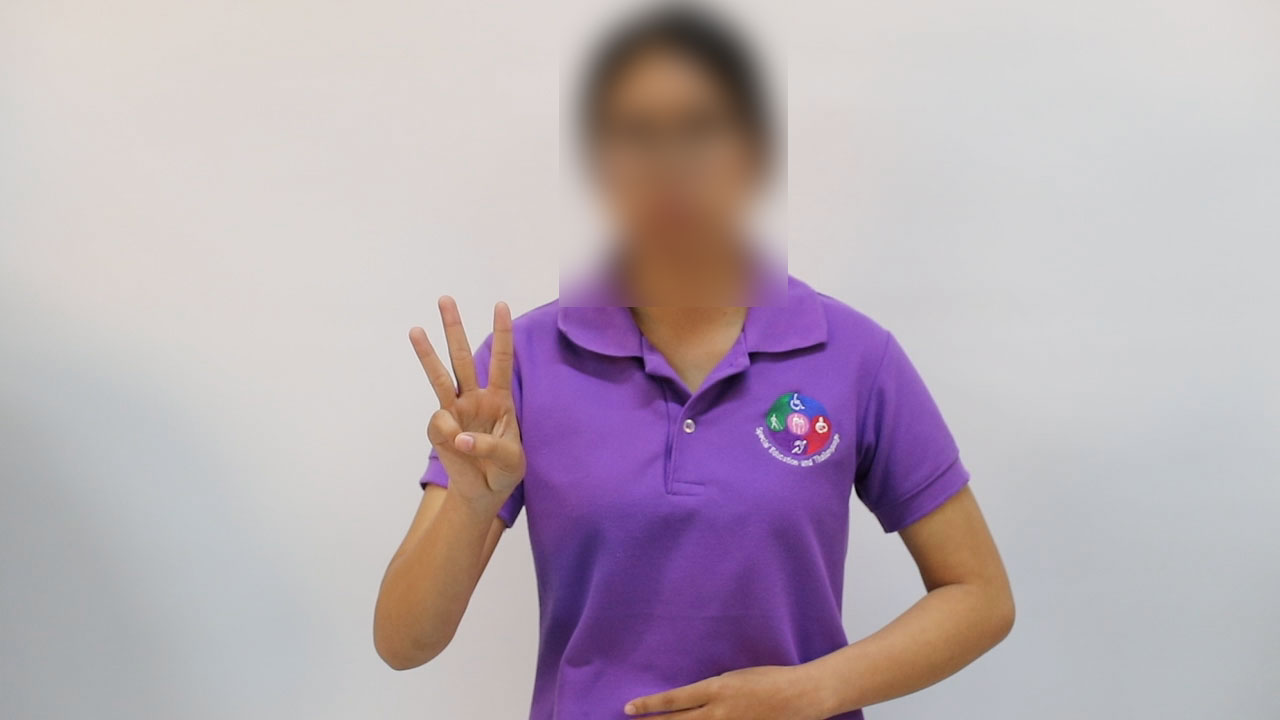wor: (398, 283, 532, 519)
